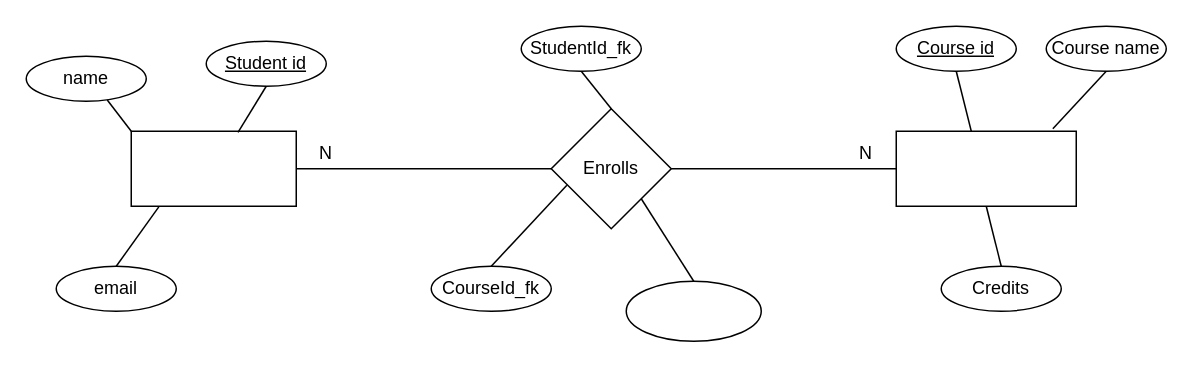
Image size: 1193x368. Some labels were removed from this diagram. Here are the shapes that lost their labels. From the top down, the centre of each, then its label:
At [213,168]: "Student".
At [985,168]: "Course".
At [693,310]: "Enrolement date".
